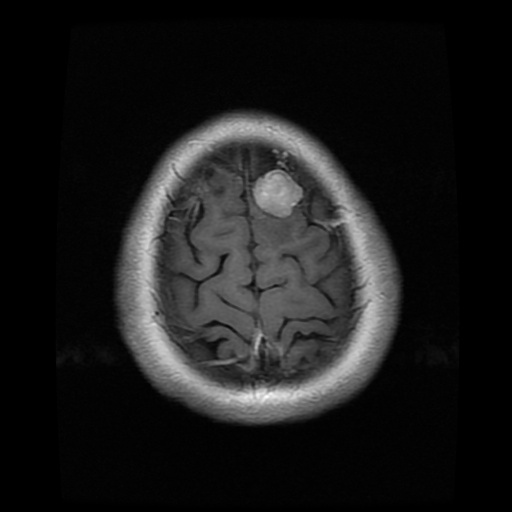meningioma: (253, 168, 303, 216)
